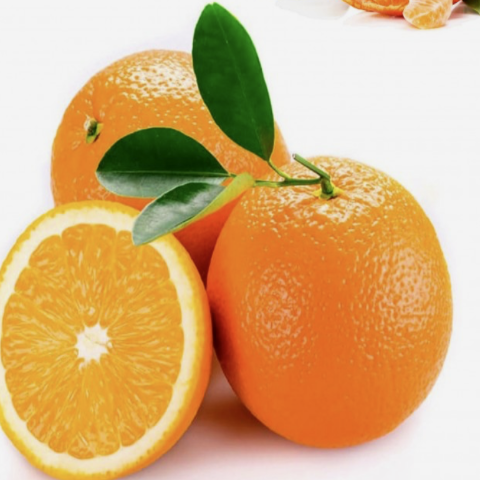orange: (189, 125, 464, 463), (43, 43, 316, 317)
